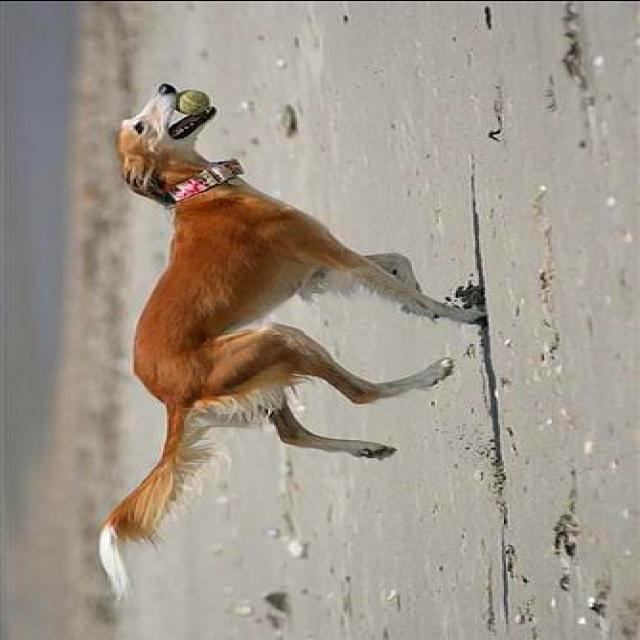saluki: (94, 80, 490, 606)
